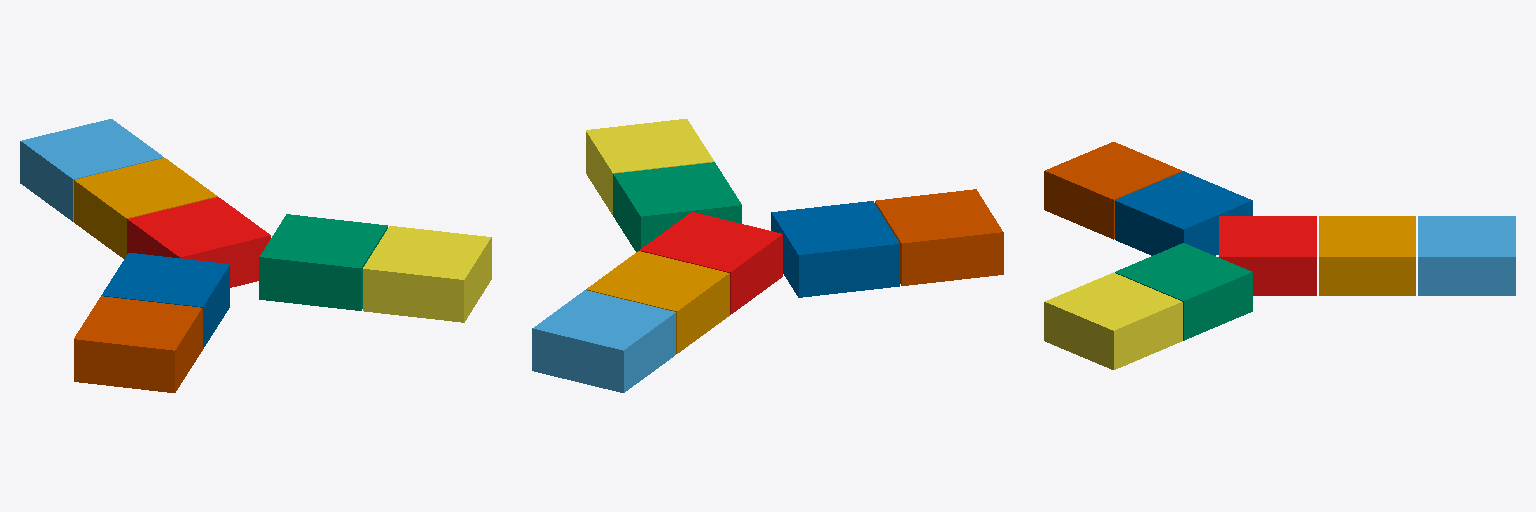
URDF robot description (rob):
<?xml version='1.0' encoding='UTF-8'?>
<robot name="rob">
  <link name="set1_arm1">
    <inertial>
      <origin xyz="0.0 0.34 0.0" rpy="0.0 0.0 0.0"/>
      <mass value="1.0"/>
      <inertia ixx="0.0" ixy="0.0" ixz="0.0" iyy="0.0" iyz="0.0" izz="0.0"/>
    </inertial>
    <visual>
      <geometry>
        <box size="0.67 0.67 0.3 "/>
      </geometry>
      <origin xyz="0.0 0.34 0.0" rpy="0.0 0.0 0.0"/>
    </visual>
    <collision>
      <geometry>
        <box size="0.67 0.67 0.3 "/>
      </geometry>
      <origin xyz="0.0 0.34 0.0" rpy="0.0 0.0 0.0"/>
    </collision>
  </link>
  <link name="set1_arm2">
    <inertial>
      <origin xyz="0.0 0.34 0.0" rpy="0.0 0.0 0.0"/>
      <mass value="1.0"/>
      <inertia ixx="0.0" ixy="0.0" ixz="0.0" iyy="0.0" iyz="0.0" izz="0.0"/>
    </inertial>
    <visual>
      <geometry>
        <box size="0.67 0.67 0.3 "/>
      </geometry>
      <origin xyz="0.0 0.34 0.0" rpy="0.0 0.0 0.0"/>
    </visual>
    <collision>
      <geometry>
        <box size="0.67 0.67 0.3 "/>
      </geometry>
      <origin xyz="0.0 0.34 0.0" rpy="0.0 0.0 0.0"/>
    </collision>
  </link>
  <link name="set6_arm1">
    <inertial>
      <origin xyz="0.0 0.34 0.0" rpy="0.0 0.0 0.0"/>
      <mass value="1.0"/>
      <inertia ixx="0.0" ixy="0.0" ixz="0.0" iyy="0.0" iyz="0.0" izz="0.0"/>
    </inertial>
    <visual>
      <geometry>
        <box size="0.67 0.67 0.3 "/>
      </geometry>
      <origin xyz="0.0 0.34 0.0" rpy="0.0 0.0 0.0"/>
    </visual>
    <collision>
      <geometry>
        <box size="0.67 0.67 0.3 "/>
      </geometry>
      <origin xyz="0.0 0.34 0.0" rpy="0.0 0.0 0.0"/>
    </collision>
  </link>
  <link name="set6_arm2">
    <inertial>
      <origin xyz="0.0 0.34 0.0" rpy="0.0 0.0 0.0"/>
      <mass value="1.0"/>
      <inertia ixx="0.0" ixy="0.0" ixz="0.0" iyy="0.0" iyz="0.0" izz="0.0"/>
    </inertial>
    <visual>
      <geometry>
        <box size="0.67 0.67 0.3 "/>
      </geometry>
      <origin xyz="0.0 0.34 0.0" rpy="0.0 0.0 0.0"/>
    </visual>
    <collision>
      <geometry>
        <box size="0.67 0.67 0.3 "/>
      </geometry>
      <origin xyz="0.0 0.34 0.0" rpy="0.0 0.0 0.0"/>
    </collision>
  </link>
  <link name="set8_arm1">
    <inertial>
      <origin xyz="0.0 0.34 0.0" rpy="0.0 0.0 0.0"/>
      <mass value="1.0"/>
      <inertia ixx="0.0" ixy="0.0" ixz="0.0" iyy="0.0" iyz="0.0" izz="0.0"/>
    </inertial>
    <visual>
      <geometry>
        <box size="0.67 0.67 0.3 "/>
      </geometry>
      <origin xyz="0.0 0.34 0.0" rpy="0.0 0.0 0.0"/>
    </visual>
    <collision>
      <geometry>
        <box size="0.67 0.67 0.3 "/>
      </geometry>
      <origin xyz="0.0 0.34 0.0" rpy="0.0 0.0 0.0"/>
    </collision>
  </link>
  <link name="set8_arm2">
    <inertial>
      <origin xyz="0.0 0.34 0.0" rpy="0.0 0.0 0.0"/>
      <mass value="1.0"/>
      <inertia ixx="0.0" ixy="0.0" ixz="0.0" iyy="0.0" iyz="0.0" izz="0.0"/>
    </inertial>
    <visual>
      <geometry>
        <box size="0.67 0.67 0.3 "/>
      </geometry>
      <origin xyz="0.0 0.34 0.0" rpy="0.0 0.0 0.0"/>
    </visual>
    <collision>
      <geometry>
        <box size="0.67 0.67 0.3 "/>
      </geometry>
      <origin xyz="0.0 0.34 0.0" rpy="0.0 0.0 0.0"/>
    </collision>
  </link>
  <link name="base_link">
    <inertial>
      <origin xyz="0.0 0.0 0.0" rpy="0.0 -0.0 0.0"/>
      <mass value="1.0"/>
      <inertia ixx="1.0" ixy="0.0" ixz="0.0" iyy="1.0" iyz="0.0" izz="1.0"/>
    </inertial>
    <visual>
      <geometry>
        <box size="0.67 0.67 0.3 "/>
      </geometry>
      <material name="red"/>
      <origin xyz="0.0 0.0 0.0" rpy="0.0 -0.0 0.0"/>
    </visual>
    <collision>
      <geometry>
        <box size="0.67 0.67 0.3 "/>
      </geometry>
      <origin xyz="0.0 0.0 0.0" rpy="0.0 0.0 0.0"/>
    </collision>
  </link>
  <joint name="set1_jointBase" type="fixed">
    <limit effort="1.57" velocity="1.57" lower="-1.57" upper="1.57"/>
    <parent link="base_link"/>
    <child link="set1_arm1"/>
    <axis xyz="1. 0. 0."/>
    <origin xyz="0.0 0.34 0.0" rpy="0.0 0.0 0.0"/>
  </joint>
  <joint name="set1_joint1" type="revolute">
    <limit effort="1.57" velocity="1.57" lower="-1.57" upper="1.57"/>
    <parent link="set1_arm1"/>
    <child link="set1_arm2"/>
    <axis xyz="1. 0. 0."/>
    <origin xyz="0.0 0.68 0.0" rpy="0.0 0.0 0.0"/>
  </joint>
  <joint name="set6_jointBase" type="fixed">
    <limit effort="1.57" velocity="1.57" lower="-1.57" upper="1.57"/>
    <parent link="base_link"/>
    <child link="set6_arm1"/>
    <axis xyz="1. 0. 0."/>
    <origin xyz="0.34 -0.34 0.0" rpy="0.0 0.0 -2.355"/>
  </joint>
  <joint name="set6_joint1" type="revolute">
    <limit effort="1.57" velocity="1.57" lower="-1.57" upper="1.57"/>
    <parent link="set6_arm1"/>
    <child link="set6_arm2"/>
    <axis xyz="1. 0. 0."/>
    <origin xyz="0.0 0.68 0.0" rpy="0.0 0.0 0.0"/>
  </joint>
  <joint name="set8_jointBase" type="fixed">
    <limit effort="1.57" velocity="1.57" lower="-1.57" upper="1.57"/>
    <parent link="base_link"/>
    <child link="set8_arm1"/>
    <axis xyz="1. 0. 0."/>
    <origin xyz="-0.34 -0.34 0.0" rpy="0.0 0.0 2.355"/>
  </joint>
  <joint name="set8_joint1" type="revolute">
    <limit effort="1.57" velocity="1.57" lower="-1.57" upper="1.57"/>
    <parent link="set8_arm1"/>
    <child link="set8_arm2"/>
    <axis xyz="1. 0. 0."/>
    <origin xyz="0.0 0.68 0.0" rpy="0.0 0.0 0.0"/>
  </joint>
  <material name="red">
    <color rgba="0.969 0.129 0.122 1.   "/>
  </material>
</robot>

--- What the picture shows (computed from the rendered views, not written in the file) ---
3 views of the same robot in one strip: view 1: azimuth 30°, elevation 25°; view 2: azimuth 150°, elevation 25°; view 3: azimuth 270°, elevation 25° (orthographic).
Model rob with 7 links and 6 joints (3 revolute, 3 fixed), rooted at base_link, posed all joints at 0.
Links seen in each view (by area): view 1: set6_arm2, set8_arm2, set6_arm1, base_link, set1_arm2, set1_arm1, set8_arm1; view 2: set1_arm2, set8_arm1, set8_arm2, set6_arm1, set1_arm1, base_link, set6_arm2; view 3: set6_arm2, set1_arm2, set1_arm1, set8_arm1, set8_arm2, set6_arm1, base_link.
Link boxes in pixels (bbox=[...]): set6_arm2: bbox=[363, 226, 491, 322]; set8_arm2: bbox=[74, 296, 202, 392]; set6_arm1: bbox=[259, 214, 387, 310]; base_link: bbox=[127, 197, 270, 287]; set1_arm2: bbox=[20, 119, 163, 221]; set1_arm1: bbox=[74, 158, 217, 258]; set8_arm1: bbox=[101, 253, 229, 348]; set1_arm2: bbox=[532, 290, 675, 392]; set8_arm1: bbox=[771, 201, 899, 297]; set8_arm2: bbox=[875, 189, 1003, 285]; set6_arm1: bbox=[613, 162, 741, 251]; set1_arm1: bbox=[586, 251, 729, 353]; base_link: bbox=[639, 212, 782, 314]; set6_arm2: bbox=[586, 119, 714, 214]; set6_arm2: bbox=[1044, 272, 1182, 369]; set1_arm2: bbox=[1418, 216, 1515, 295]; set1_arm1: bbox=[1319, 216, 1415, 295]; set8_arm1: bbox=[1115, 171, 1252, 255]; set8_arm2: bbox=[1044, 142, 1182, 239]; set6_arm1: bbox=[1115, 243, 1252, 340]; base_link: bbox=[1219, 216, 1316, 295].
Size in the robot's own frame: 3.07 by 3.23 by 0.3 metres.
Geometry: primitives only (box / cylinder / sphere), no mesh files.